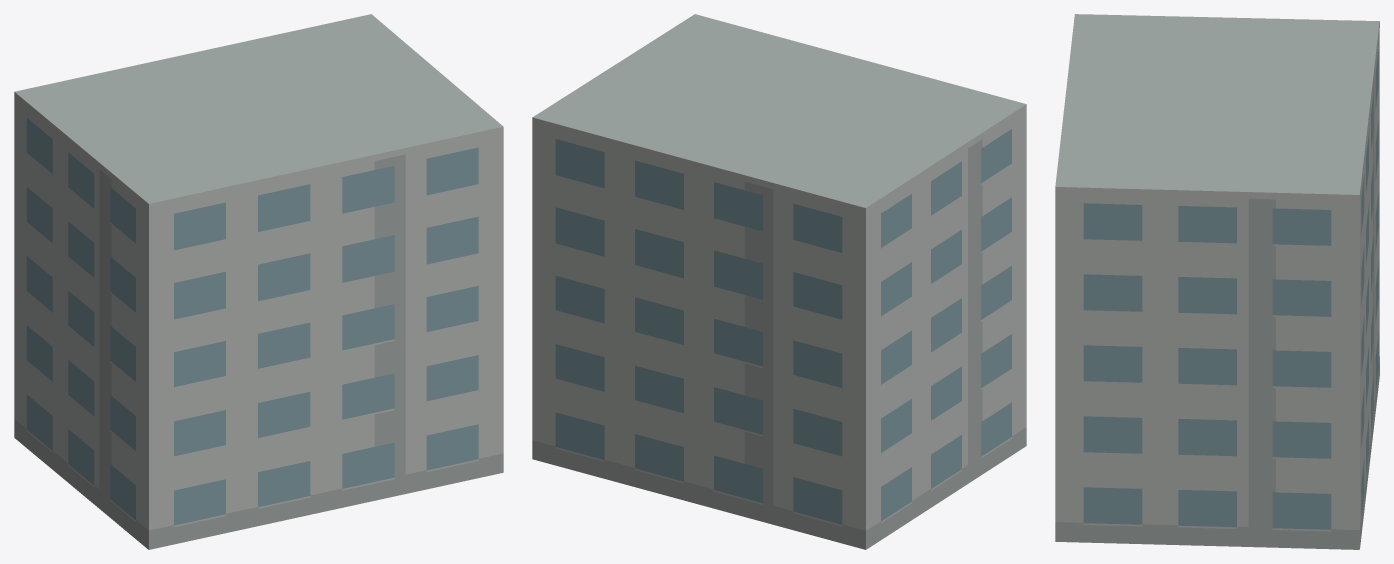
Rendered from survey-upis-32970988.glb.
3 views of the same model, side by side, from view 1: azimuth 30°, elevation 25°; view 2: azimuth 150°, elevation 25°; view 3: azimuth 270°, elevation 25° (orthographic). The views are drawn at different scales.
Parts seen in each view (by area): view 1: survey-upis-32970988.tmp; view 2: survey-upis-32970988.tmp; view 3: survey-upis-32970988.tmp.
Part boxes in pixels (left/top/right/bottom): survey-upis-32970988.tmp: left=14, top=14, right=503, bottom=549; survey-upis-32970988.tmp: left=532, top=14, right=1026, bottom=549; survey-upis-32970988.tmp: left=1055, top=14, right=1379, bottom=549.
Bounding box in the file's own units: 14.5 × 13.25 × 10.99.
